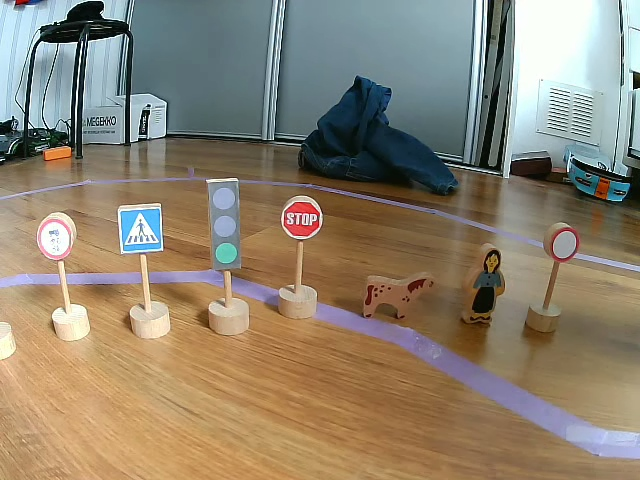fietspad: (39, 215, 72, 260)
groenlicht: (210, 179, 243, 272)
mens: (464, 247, 506, 321)
paard: (365, 273, 440, 318)
stopbord: (282, 198, 323, 238)
wegdicht: (551, 227, 583, 260)
zebrapad: (119, 203, 163, 256)
